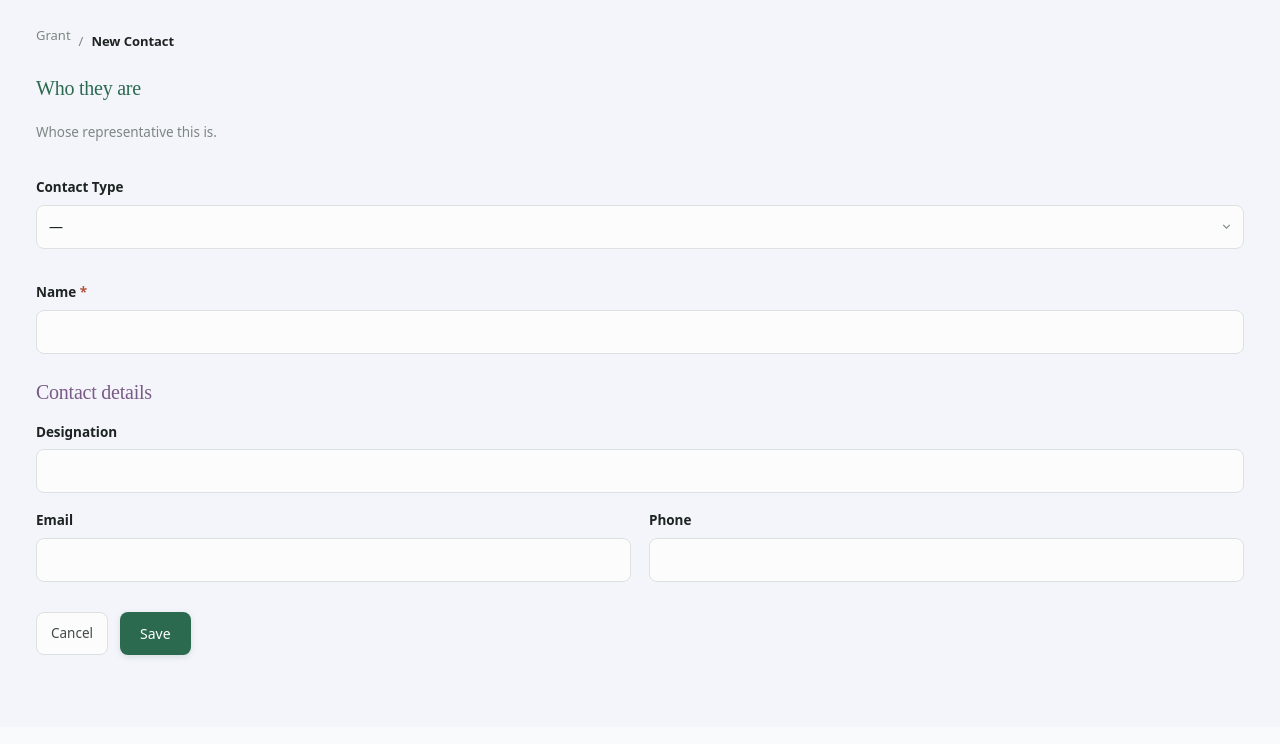
Test: creating a contact › picking a partner shows the partner's own type, read-only
Select "Partner representative" in the dropdown labelled "Contact Type" at (640, 227), box [36,205,1244,249]
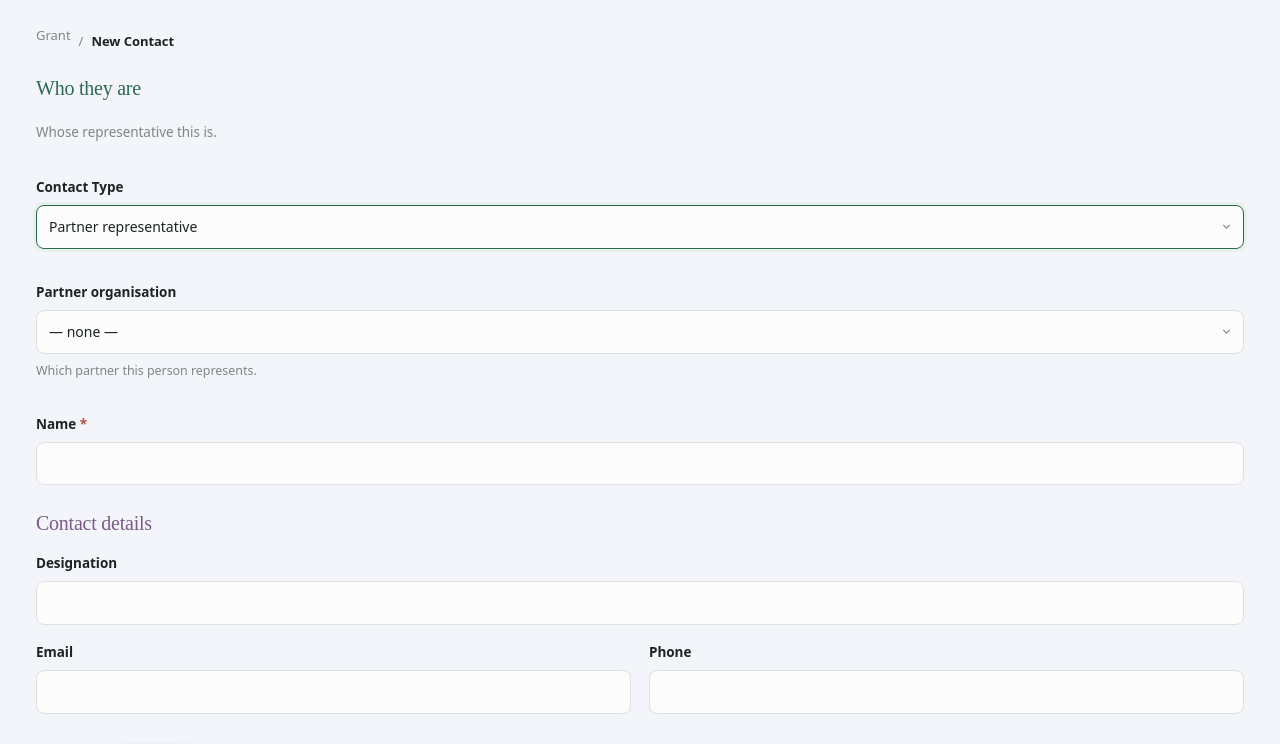
Expected: the text "Partner type:" is not shown
Select "Kick Academy" in the dropdown labelled "Partner organisation" at (640, 332), box [36,310,1244,354]
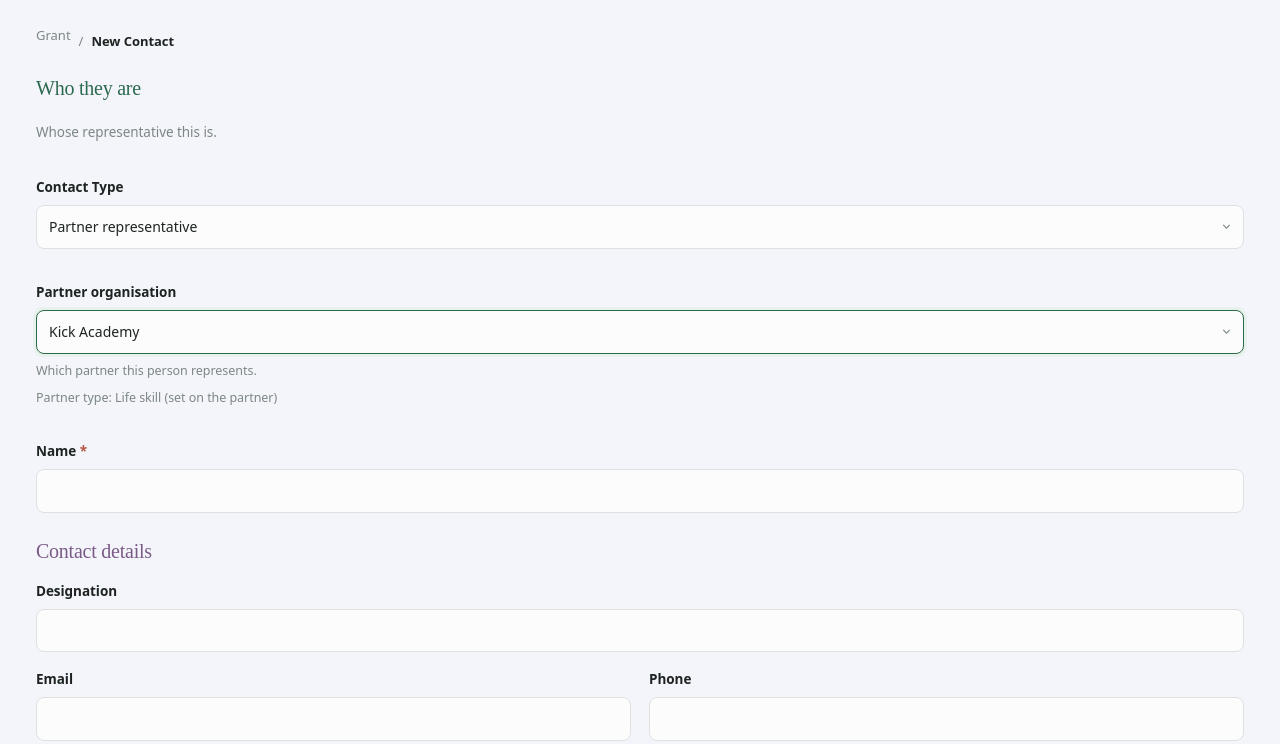
Expected: the text "Partner type: Life skill (set on the partner)" is shown, [36,389,277,406]
